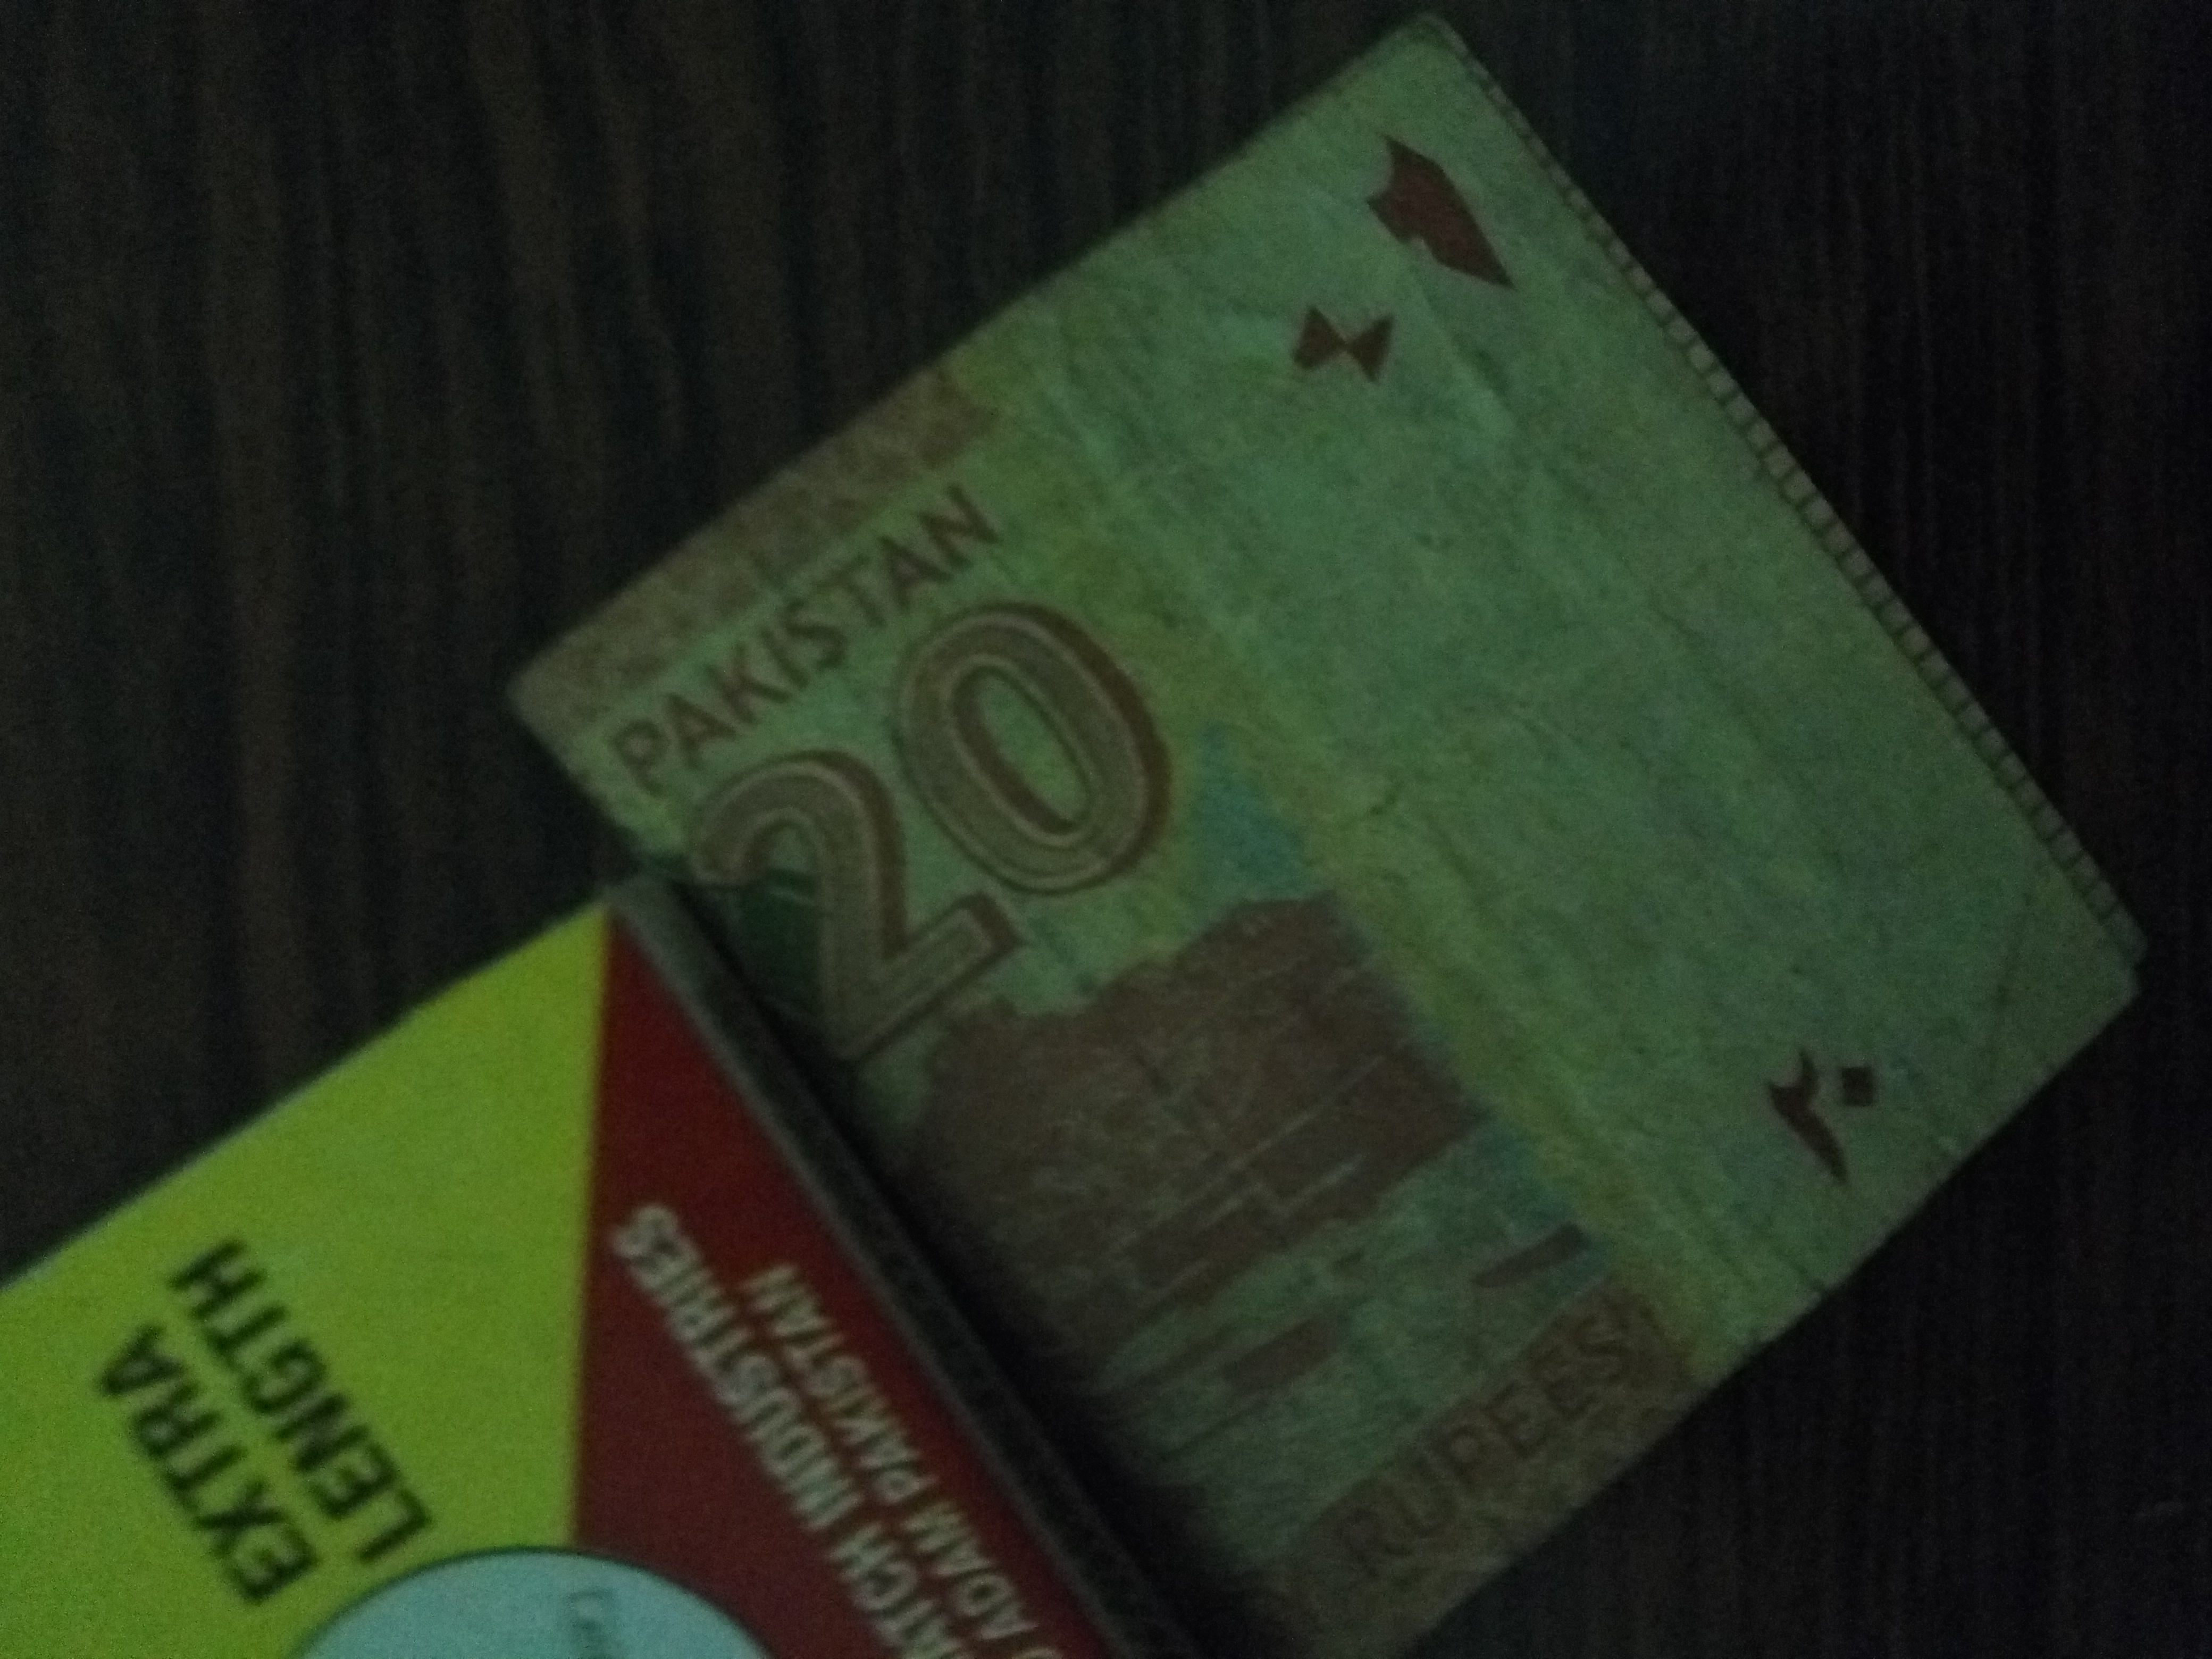20 rupee: (474, 110, 2095, 1621)
